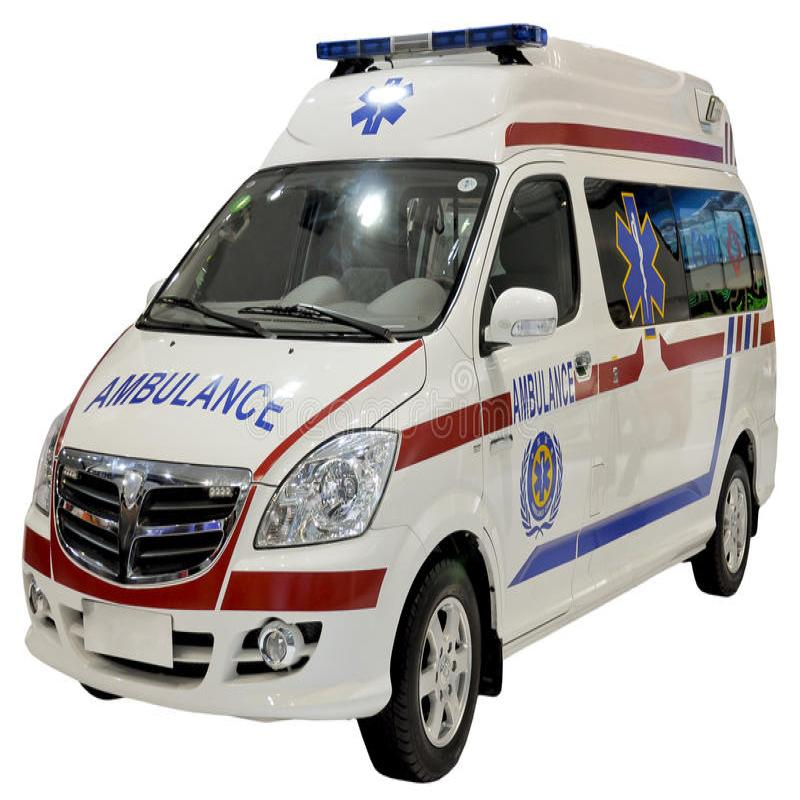AmbulanceSiren: (295, 14, 557, 73)
ambulance: (15, 18, 798, 800)
